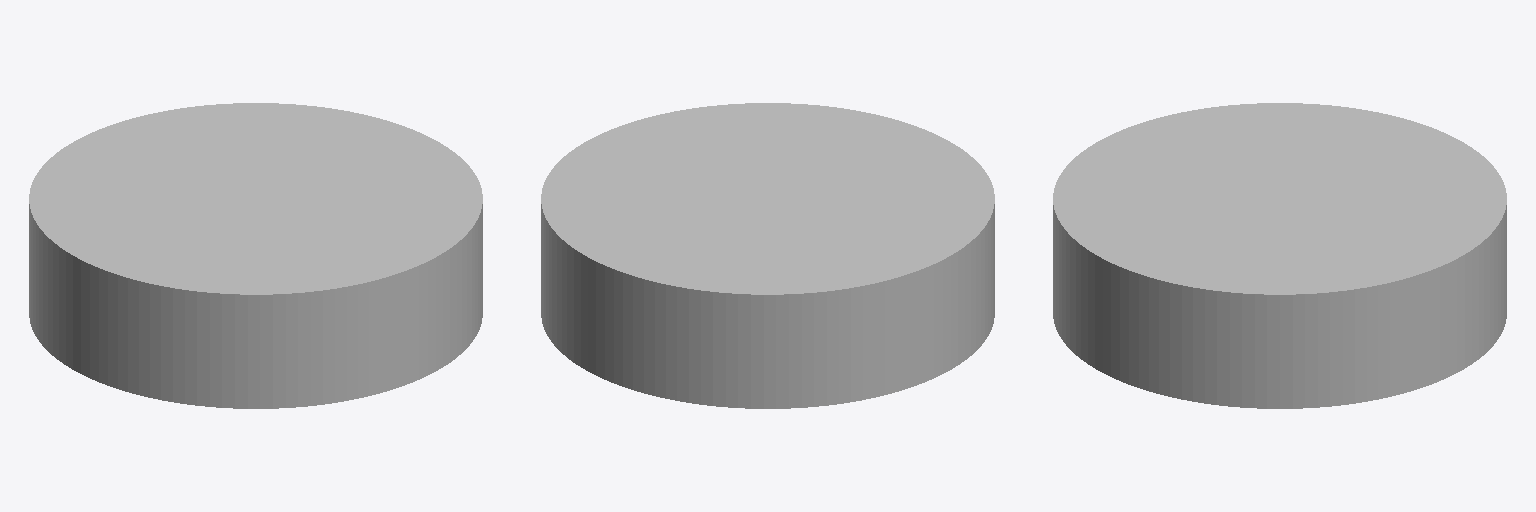
File: TestBlade3-2.obj
3 views of the same model, side by side, from view 1: azimuth 30°, elevation 25°; view 2: azimuth 150°, elevation 25°; view 3: azimuth 270°, elevation 25° (orthographic).
Size of the model in its own units: 0.036 by 0.01 by 0.036.